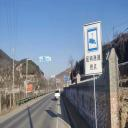speed_limit_60: (50, 57, 52, 61)
